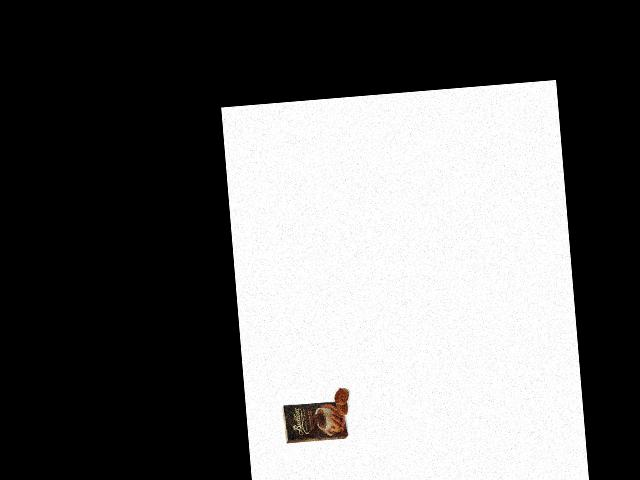chocolate: (279, 394, 350, 446)
